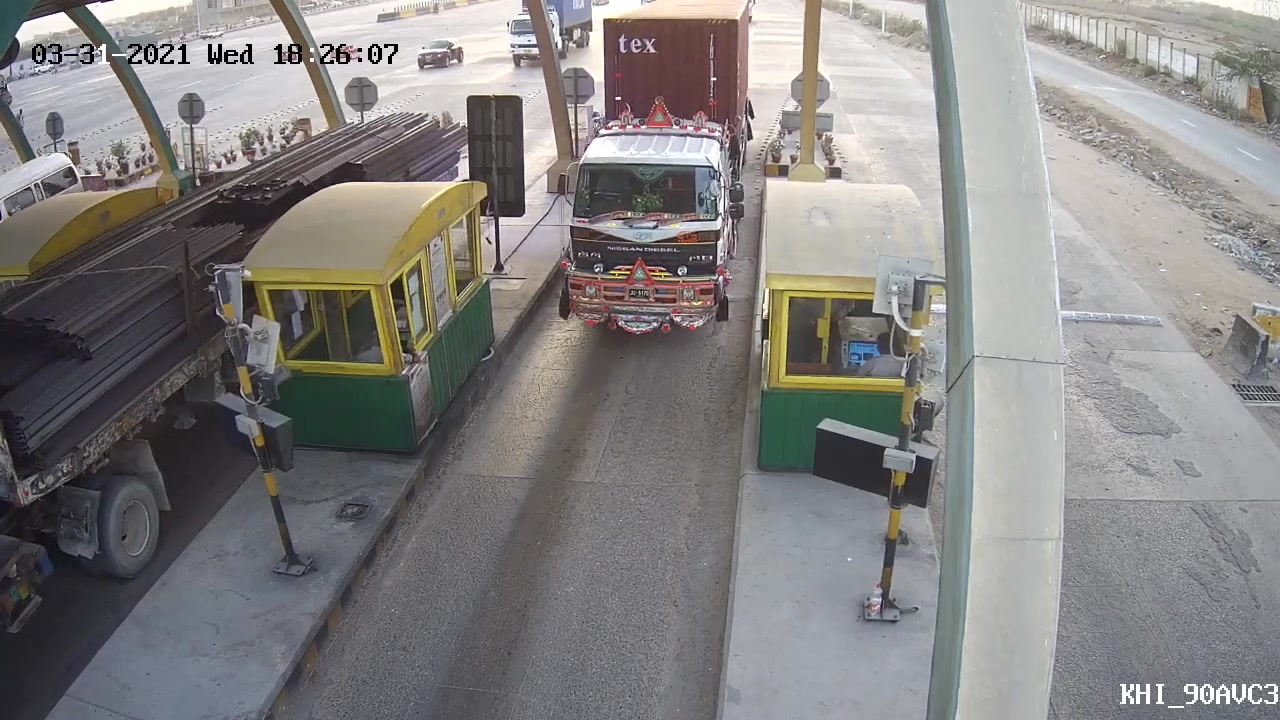F6: (550, 1, 759, 343)
